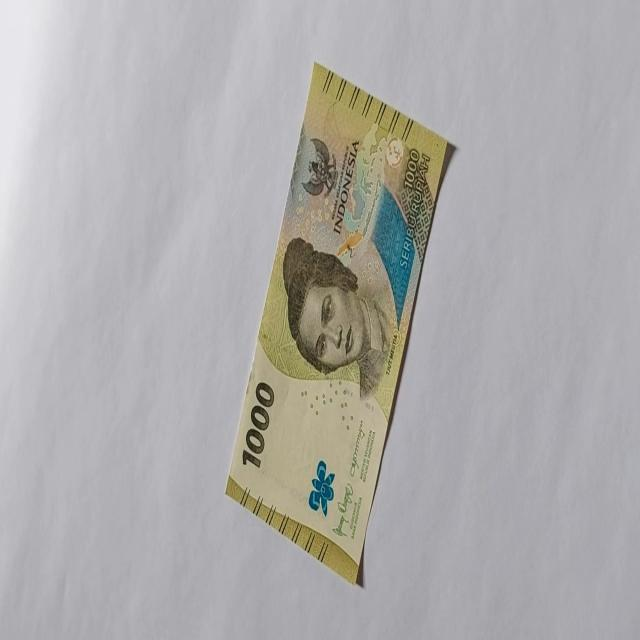seribu rupiah kertas: (223, 60, 457, 585)
